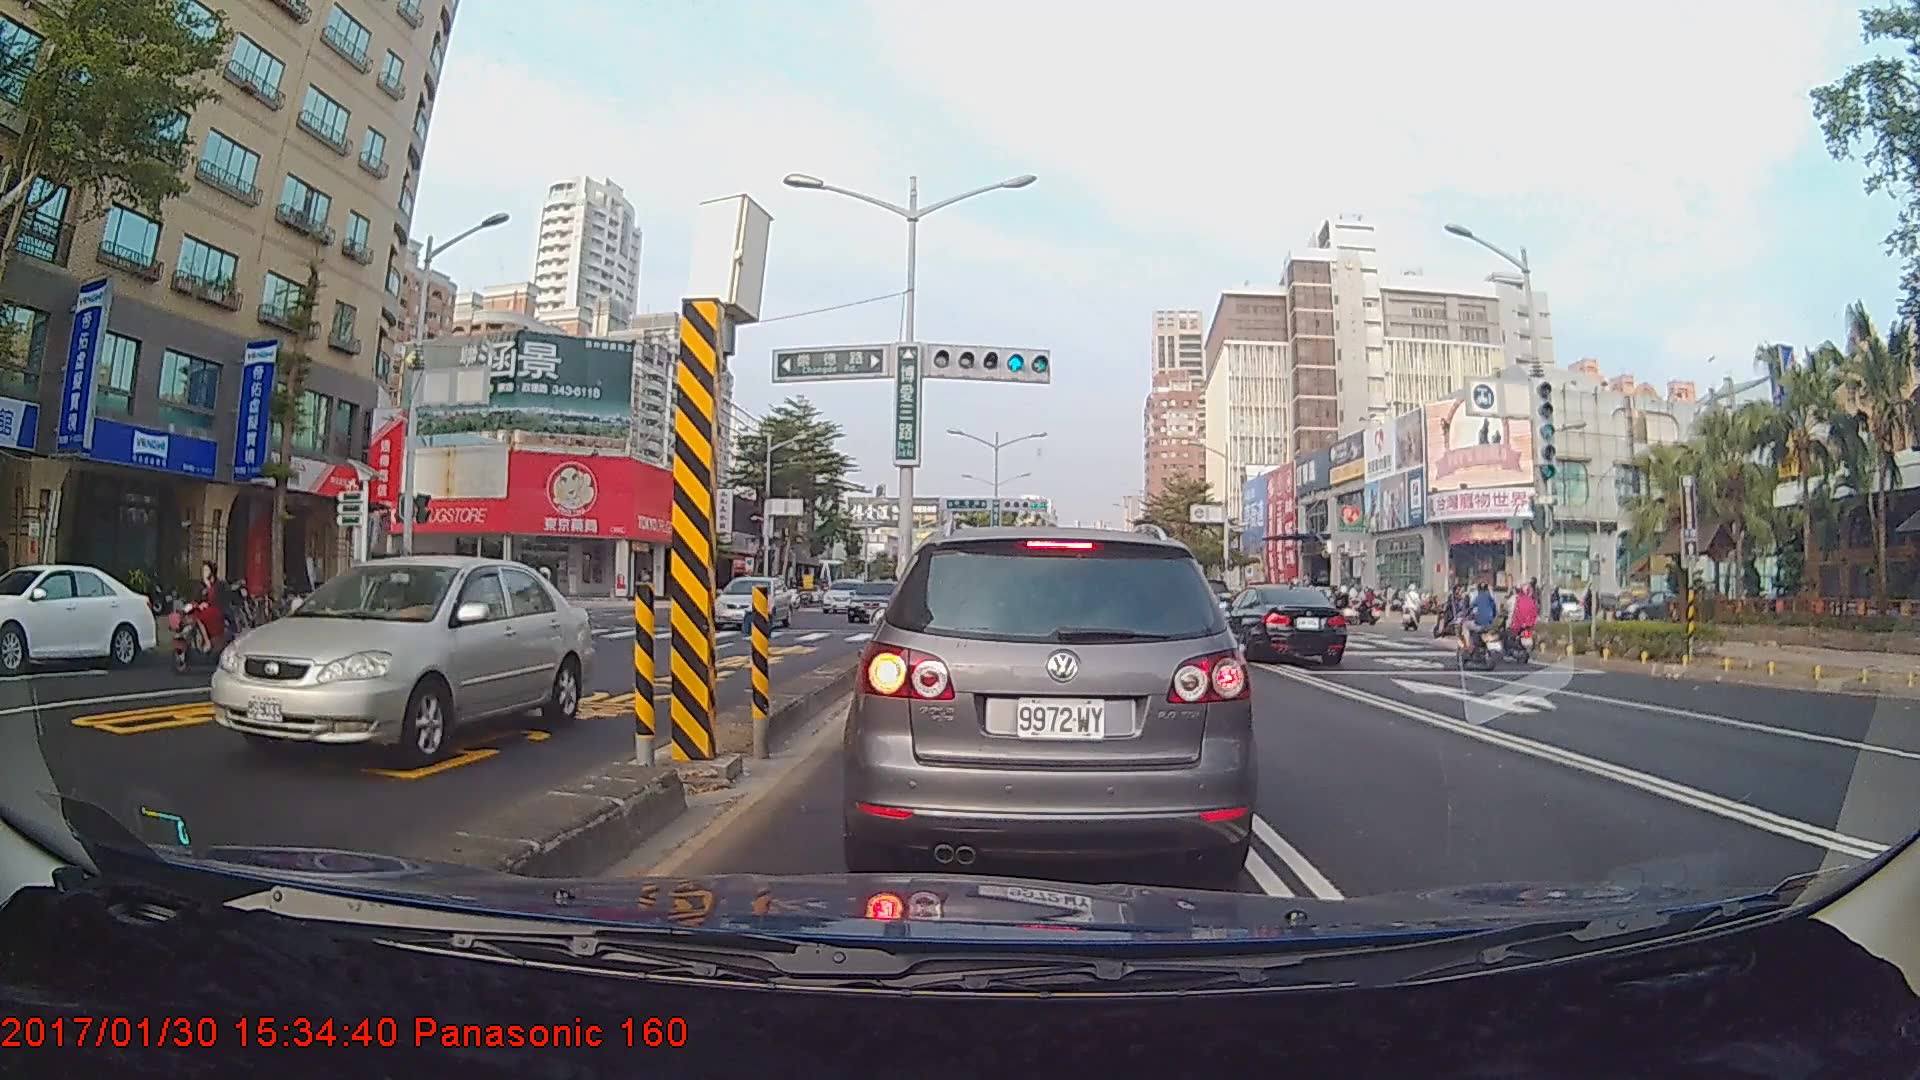rider: (159, 563, 243, 671), (1450, 580, 1513, 671), (1485, 582, 1548, 668), (1436, 582, 1473, 646), (1395, 584, 1428, 629)
vehicle: (854, 524, 1246, 877), (208, 556, 594, 764), (0, 561, 157, 671), (1206, 582, 1348, 669), (709, 574, 793, 629), (845, 578, 907, 623)
